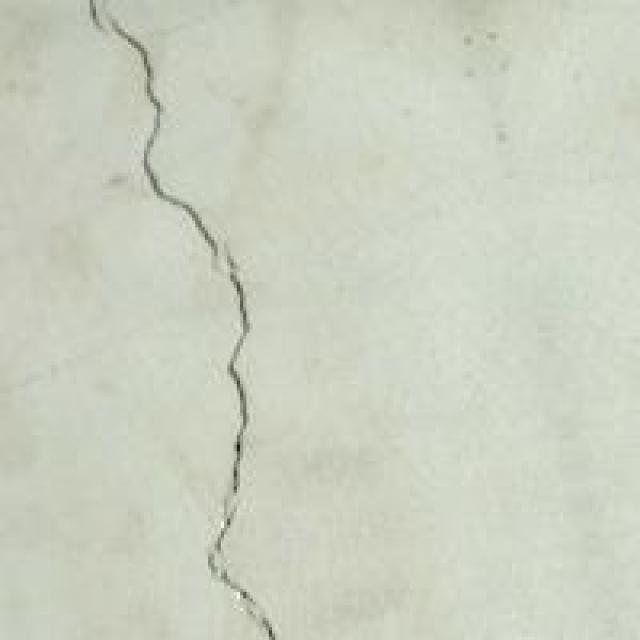Crack: (77, 7, 343, 634)
